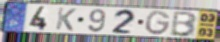2: (110, 8, 139, 36)
4: (28, 6, 49, 32)
9: (88, 8, 107, 33)
B: (168, 11, 198, 38)
G: (145, 10, 172, 36)
K: (54, 7, 78, 32)
